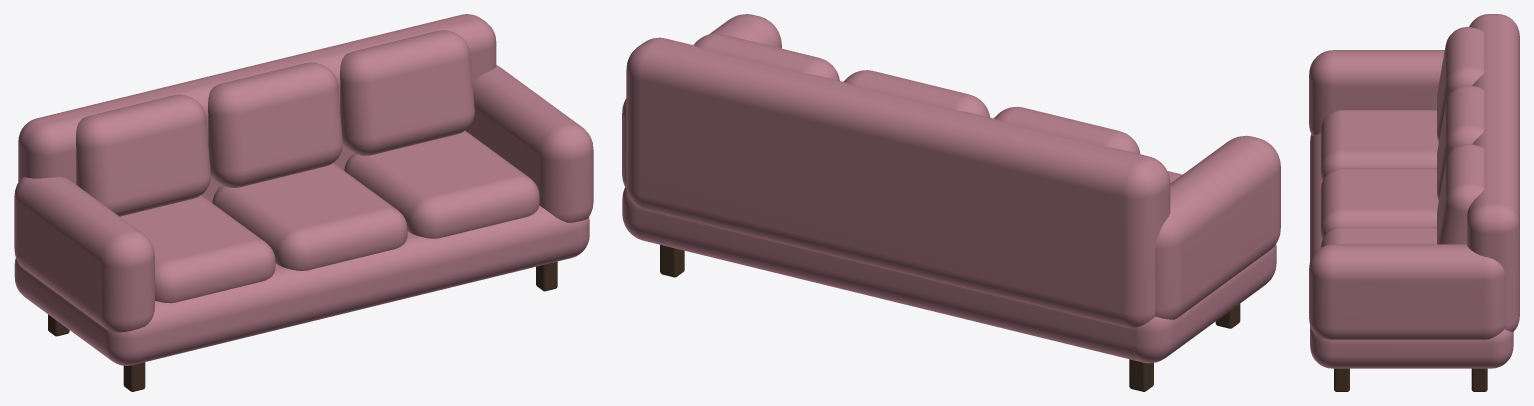
Rendered from sofa_no_pillows_dusty_rose.glb.
3 renders of one model, left to right at view 1: azimuth 30°, elevation 25°; view 2: azimuth 150°, elevation 25°; view 3: azimuth 270°, elevation 25°, orthographic. The views are drawn at different scales.
Parts seen in each view (by area): view 1: Upholstered foundation, Rounded padded arm, Plush back cushion.002, Plush back cushion.001, Plush back cushion, Seat cushion.002, Seat cushion.001, Rounded padded arm.001, Padded back frame, Seat cushion, Walnut foot, Walnut foot.002; view 2: Padded back frame, Upholstered foundation, Rounded padded arm, Plush back cushion.001, Plush back cushion.002, Plush back cushion, Rounded padded arm.001, Walnut foot.001, Walnut foot.003; view 3: Rounded padded arm.001, Padded back frame, Rounded padded arm, Upholstered foundation, Seat cushion, Seat cushion.001, Plush back cushion.002, Plush back cushion.001, Plush back cushion, Seat cushion.002, Walnut foot.003, Walnut foot.002.
Part boxes in pixels (box(x1,y1,x2,y2)): Upholstered foundation: box(14, 205, 589, 365); Rounded padded arm: box(14, 177, 154, 332); Plush back cushion.002: box(340, 30, 474, 155); Plush back cushion.001: box(208, 62, 342, 187); Plush back cushion: box(76, 94, 210, 216); Seat cushion.002: box(344, 131, 539, 238); Seat cushion.001: box(212, 163, 407, 270); Rounded padded arm.001: box(466, 65, 593, 222); Padded back frame: box(18, 14, 496, 202); Seat cushion: box(120, 195, 275, 303); Walnut foot: box(123, 362, 145, 391); Walnut foot.002: box(536, 261, 557, 291); Padded back frame: box(626, 37, 1170, 328); Upholstered foundation: box(622, 187, 1276, 363); Rounded padded arm: box(1155, 135, 1280, 319); Plush back cushion.001: box(843, 70, 990, 117); Plush back cushion.002: box(693, 33, 839, 80); Plush back cushion: box(994, 106, 1140, 154); Rounded padded arm.001: box(622, 14, 781, 187); Walnut foot.001: box(1129, 359, 1153, 391); Walnut foot.003: box(660, 245, 684, 277); Rounded padded arm.001: box(1309, 244, 1505, 339); Padded back frame: box(1467, 14, 1519, 331); Rounded padded arm: box(1309, 50, 1444, 135); Upholstered foundation: box(1310, 133, 1513, 368); Seat cushion: box(1320, 110, 1438, 181); Seat cushion.001: box(1320, 168, 1438, 239); Plush back cushion.002: box(1437, 144, 1484, 244); Plush back cushion.001: box(1437, 85, 1484, 200); Plush back cushion: box(1437, 27, 1484, 142); Seat cushion.002: box(1320, 227, 1436, 247); Walnut foot.003: box(1471, 368, 1487, 391); Walnut foot.002: box(1334, 368, 1349, 391).
Size of the model in its own units: 2.42 by 0.9999 by 0.995.
